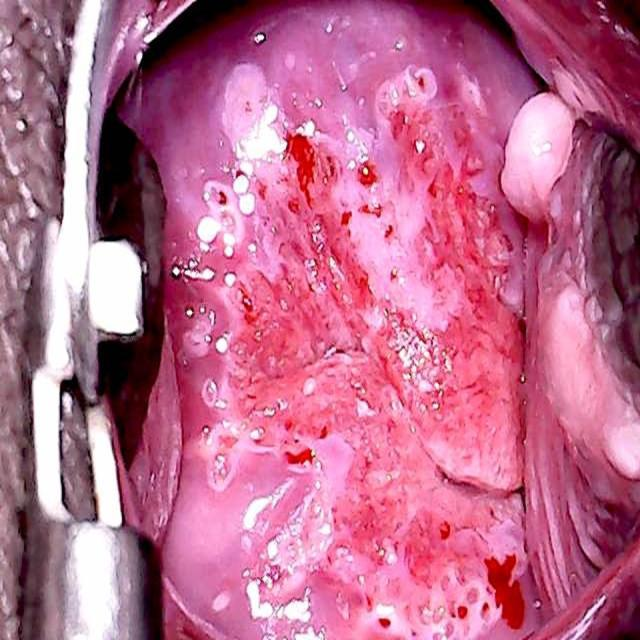cervical_lesion: (123, 11, 568, 640)
